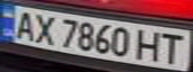0: (112, 25, 136, 58)
6: (90, 22, 115, 55)
7: (54, 16, 78, 48)
8: (75, 19, 96, 52)
A: (9, 8, 39, 41)
H: (133, 28, 166, 62)
T: (157, 30, 190, 64)
X: (27, 11, 60, 45)
